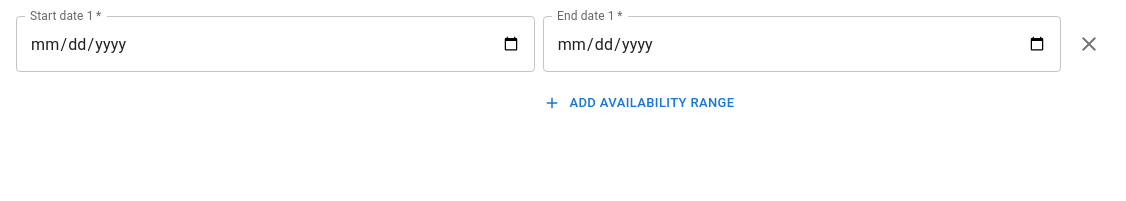
Test: AvailabilityRange › should allow user to remove date input fields
The width and height of the screenshot is (1126, 201).
Click the button "Add availability range": (639, 103) [544,94,735,112]
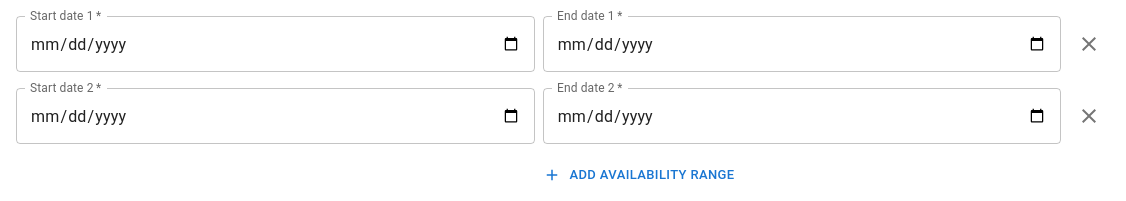
Check: the button "Add availability range" is shown, box [544,166,735,184]
Note: then remove the field
Click the button with id "removeInputRole": (1089, 44) [1069,24,1109,64]
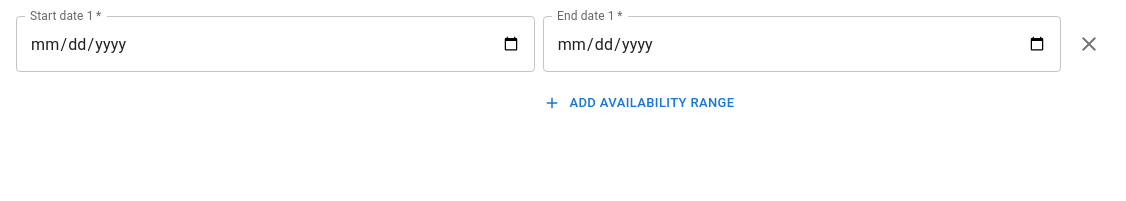
Check: the date field with id "startDateInput0" is shown, box [16,16,535,72]
Check: the label with id "startDateInput1" is gone
Check: the label with id "endDateInput1" is gone
